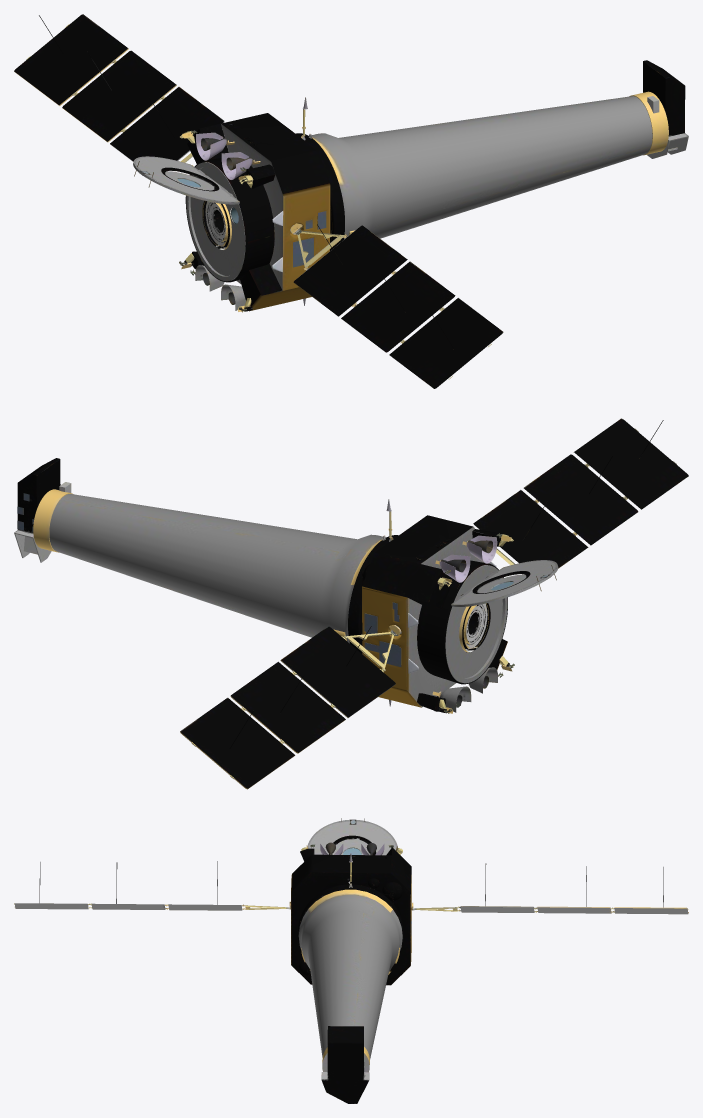
The model's file is chandra.glb.
3 renders of one model, top to bottom at view 1: azimuth 30°, elevation 25°; view 2: azimuth 150°, elevation 25°; view 3: azimuth 270°, elevation 25°, orthographic. The views are drawn at different scales.
Bounding box in the file's own units: 21.63 × 8.15 × 30.77.
1 material, 1 textured.
